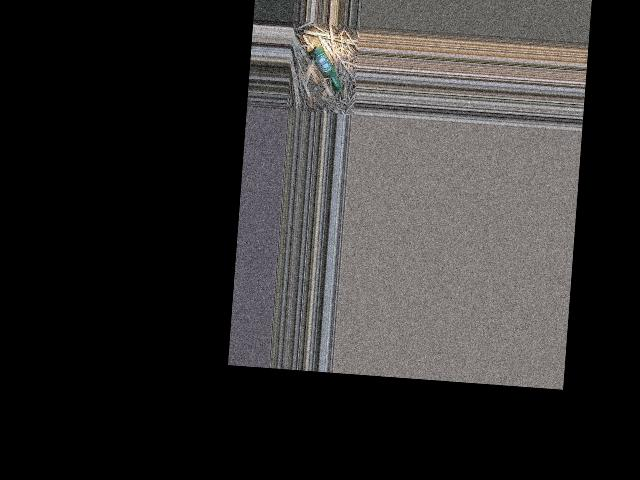beer: (305, 45, 344, 92)
